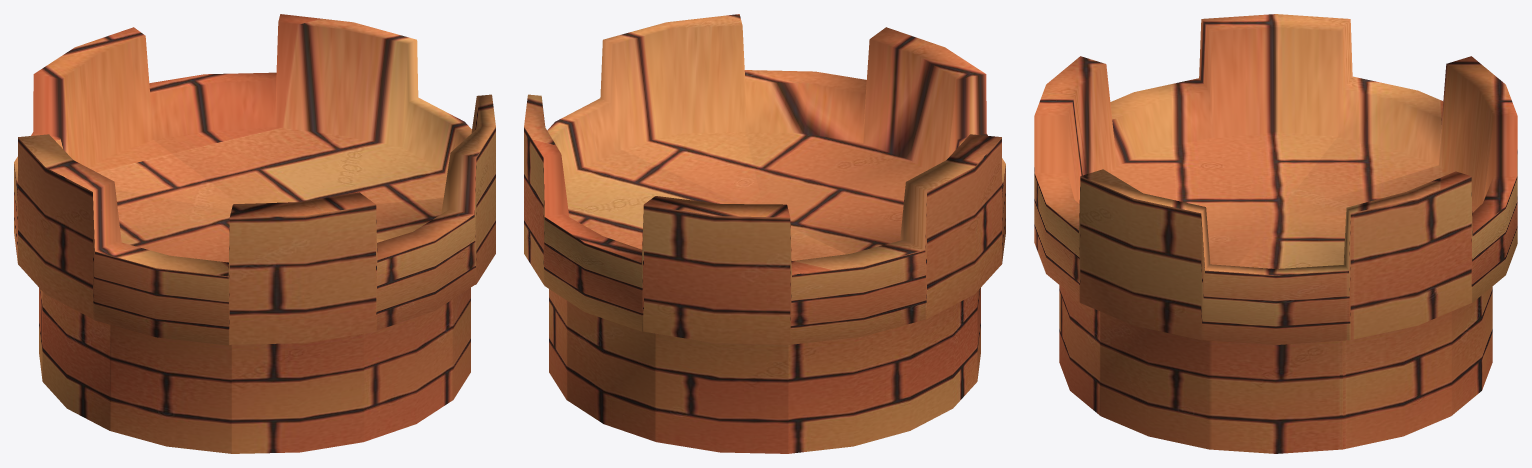
Rendered from GoalGW.obj.
3 views of the same model, side by side, from view 1: azimuth 30°, elevation 25°; view 2: azimuth 150°, elevation 25°; view 3: azimuth 270°, elevation 25° (orthographic).
Visible parts, largest first — view 1: pCylinder1; view 2: pCylinder1; view 3: pCylinder1.
Boxes of the visible parts, left/top/right/bottom form: pCylinder1: left=14, top=14, right=495, bottom=453; pCylinder1: left=524, top=14, right=1005, bottom=453; pCylinder1: left=1034, top=14, right=1517, bottom=453.
Bounding box in the file's own units: 1.93 × 1.09 × 1.93.
Materials: 1 (1 with a texture image).
